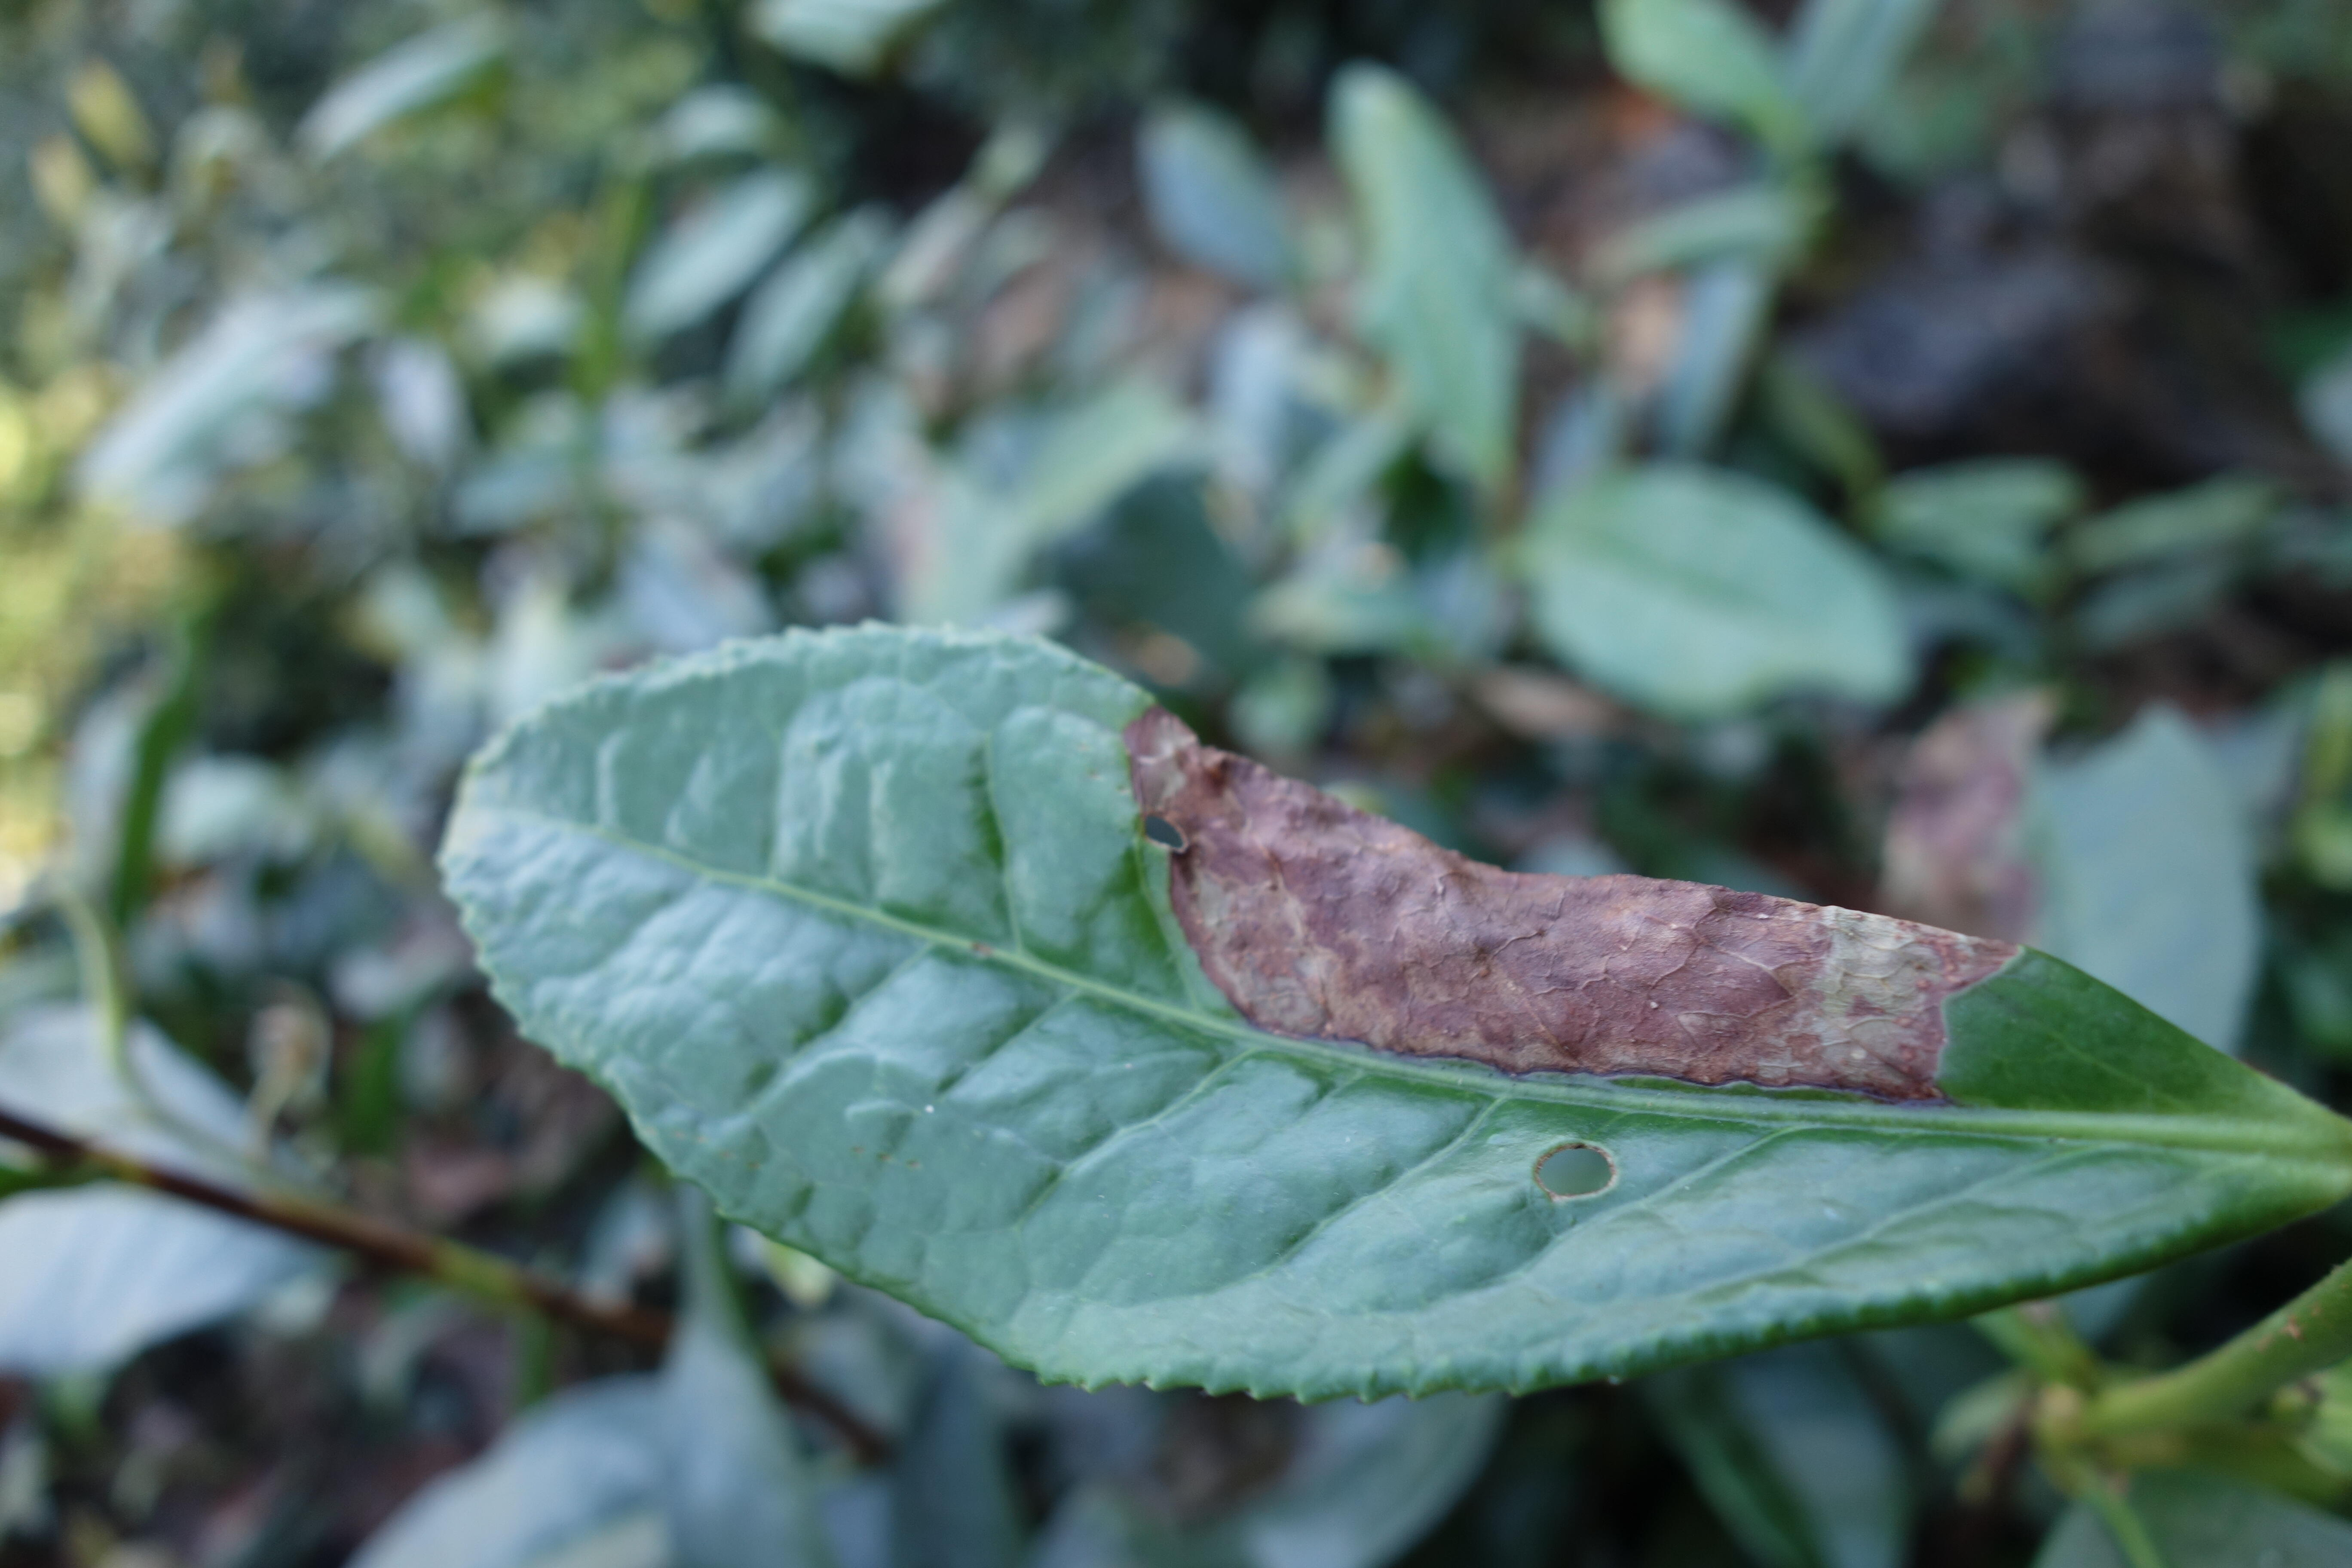tanju_high: (432, 623, 2352, 1402)
